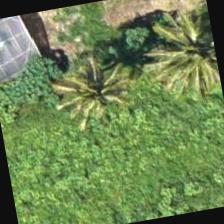Kelapa_Sawit: (41, 39, 145, 143), (145, 6, 222, 106)
